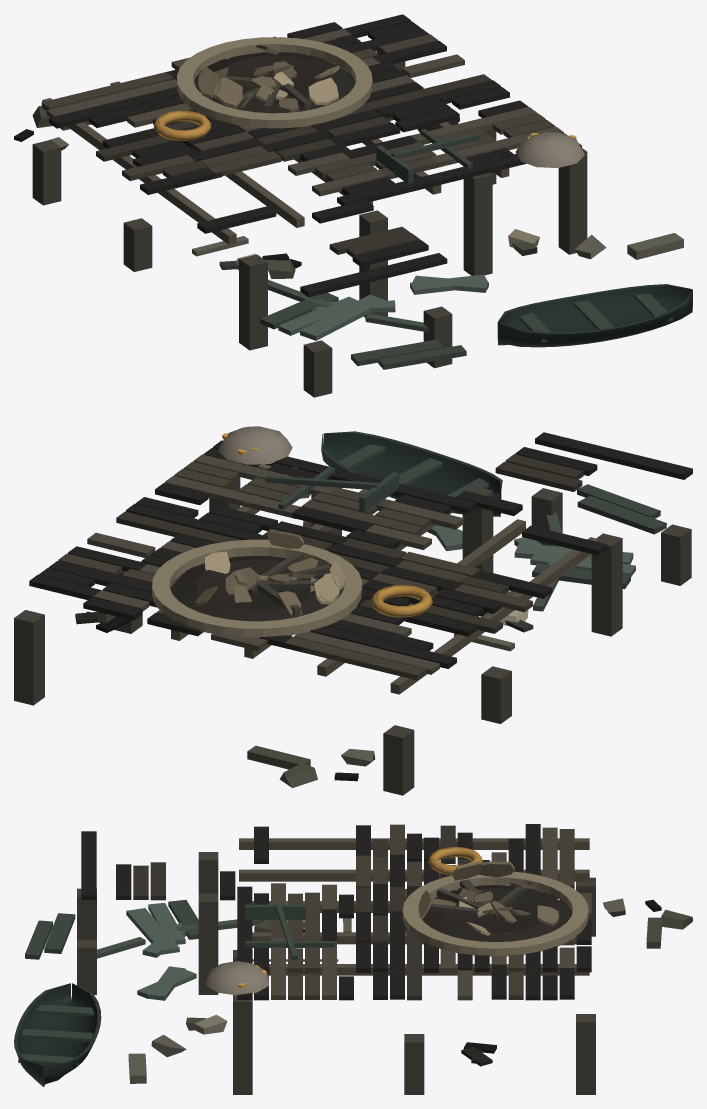
The model's file is VerHut11a.glb.
3 views of the same model, one above another, from view 1: azimuth 30°, elevation 25°; view 2: azimuth 150°, elevation 25°; view 3: azimuth 270°, elevation 25° (orthographic). The views are drawn at different scales.
Parts seen in each view (by area): view 1: VerHut11a_burnt; view 2: VerHut11a_burnt; view 3: VerHut11a_burnt.
Boxes of the visible parts, x1=… form: VerHut11a_burnt: x1=14, y1=14, x2=692, y2=397; VerHut11a_burnt: x1=14, y1=426, x2=692, y2=795; VerHut11a_burnt: x1=14, y1=824, x2=692, y2=1094.
Bounding box in the file's own units: 8.28 × 2.55 × 12.37.
